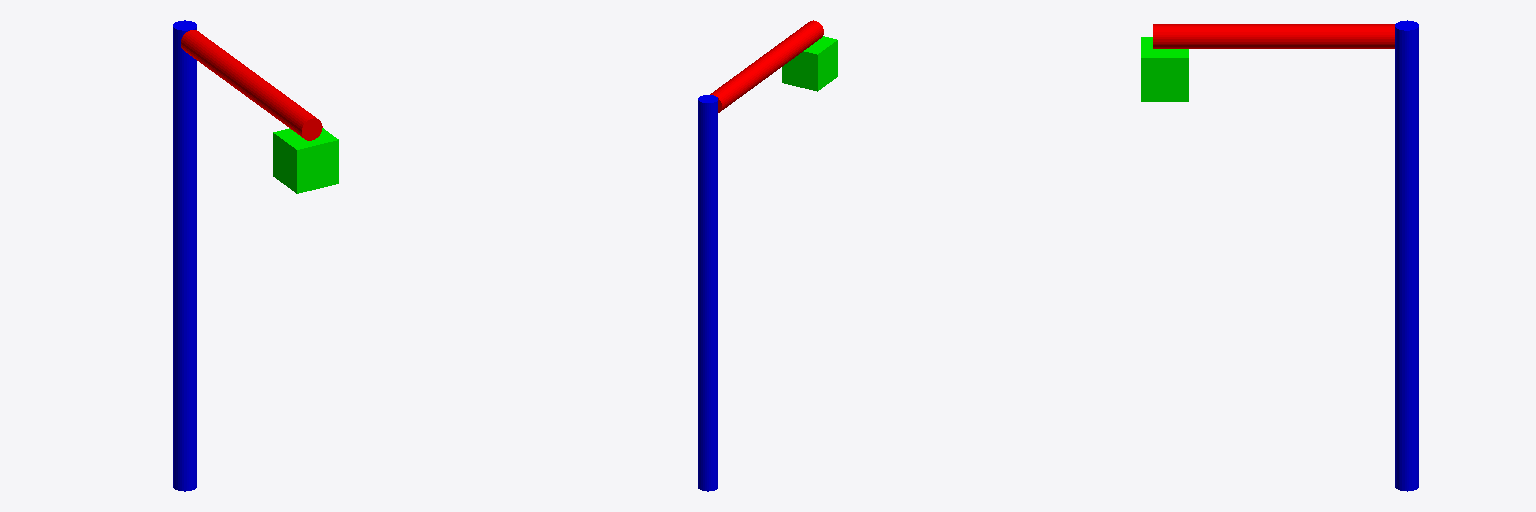
robot.urdf — FurutaPendulum:
<?xml version="1.0"?>

<robot xmlns="http://drake.mit.edu"
 xmlns:xsi="http://www.w3.org/2001/XMLSchema-instance"
 xsi:schemaLocation="http://drake.mit.edu ../../doc/drakeURDF.xsd" name="FurutaPendulum">

  <link name="base_link">
    <inertial>
      <mass value="1" />
      <inertia ixx=".0067" ixy="0" ixz="0" iyy=".0067" iyz="0" izz="0.0067" />
    </inertial>
    <visual>
      <geometry>
         <box size=".2 .2 .2" />
      </geometry>
      <material name="green">
      	<color rgba="0 1 0 1" />
      </material>
    </visual>
  </link>

  <link name="upper_link">
    <inertial>
      <origin xyz="0 .5 0" rpy="0 0 0" />
      <mass value="1" />
      <inertia ixx=".084" ixy="0" ixz="0" iyy=".0013" iyz="0" izz=".084" />
    </inertial>
    <visual>
      <origin xyz="0 .45 0" rpy="1.5708 0 0" />
      <geometry>
         <cylinder length="1" radius=".05" />
      </geometry>
      <material name="red">
	      <color rgba="1 0 0 1" />
      </material>
    </visual>
  </link>

  <link name="lower_link">
    <inertial>
      <origin xyz="0 0 -1" rpy="0 0 0" />
      <mass value="1" />
      <!-- note: the inertia of a solid ROD about it's COM is mr^2/2, 1/12 m*(3r^2+L^2) -->
      <inertia ixx=".3681" ixy="0" ixz="0" iyy="0.3681" iyz="0" izz=".0013" />
    </inertial>
    <visual>
      <origin xyz="0 0 -1" rpy="0 0 0" />
      <geometry>
        <cylinder length="2.1" radius=".05" />
      </geometry>
      <material name="blue">
	      <color rgba="0 0 1 1" />
      </material>
    </visual>
  </link>
  
  <joint name="shoulder" type="continuous">
    <parent link="base_link" />
    <child link="upper_link" />
    <origin xyz="0 0 .15" />
    <axis xyz="0 0 1" />
    <dynamics damping="0.1" />
  </joint>

  <joint name="elbow" type="continuous">
    <parent link="upper_link" />
    <child link="lower_link" />
    <origin xyz="0 1 0" />
    <axis xyz="0 1 0" />
    <dynamics damping="0.1" />
  </joint>

  <transmission type="SimpleTransmission" name="shoulder_trans">
    <actuator name="shoulder_torque" />
    <joint name="shoulder" />
    <mechanicalReduction>1</mechanicalReduction>
  </transmission>
</robot>

--- What the picture shows (computed from the rendered views, not written in the file) ---
Views: 3 orthographic renders of the robot side by side, from view 1: azimuth 30°, elevation 25°; view 2: azimuth 150°, elevation 25°; view 3: azimuth 270°, elevation 25°.
Model FurutaPendulum with 3 links and 2 joints (2 continuous), rooted at base_link, posed every joint at zero.
Links seen in each view (by area): view 1: lower_link, upper_link, base_link; view 2: lower_link, upper_link, base_link; view 3: lower_link, upper_link, base_link.
Boxes of the visible links, box(x1,y1,x2,y2) form: lower_link: box(173, 20, 196, 491); upper_link: box(181, 30, 322, 140); base_link: box(273, 128, 338, 193); lower_link: box(698, 95, 717, 491); upper_link: box(710, 20, 823, 112); base_link: box(782, 36, 837, 91); lower_link: box(1395, 20, 1418, 491); upper_link: box(1153, 24, 1394, 48); base_link: box(1141, 37, 1188, 101).
Bounding box of the posed robot: 0.2 × 1.15 × 2.1 m (x, y, z).
Geometry: primitives only (box / cylinder / sphere), no mesh files.